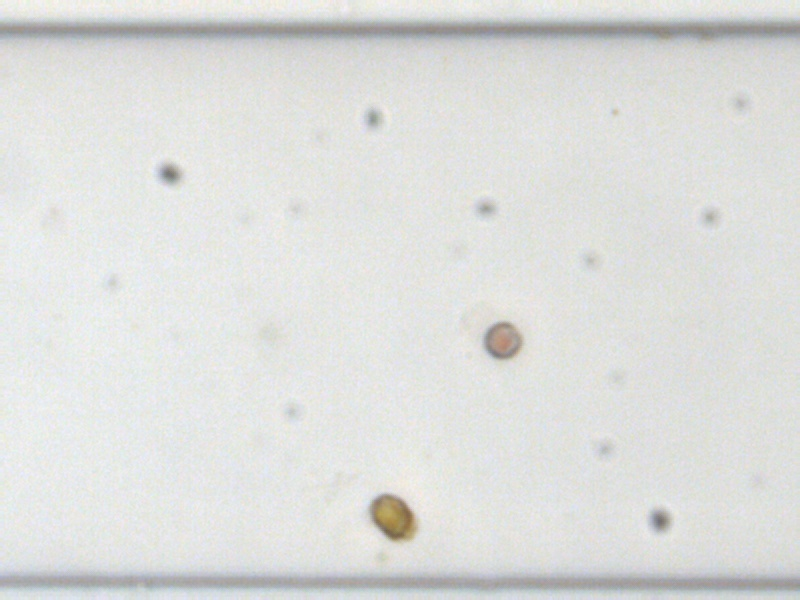Effrenium: (367, 493, 417, 540)
Porphyridium: (482, 321, 523, 361)
